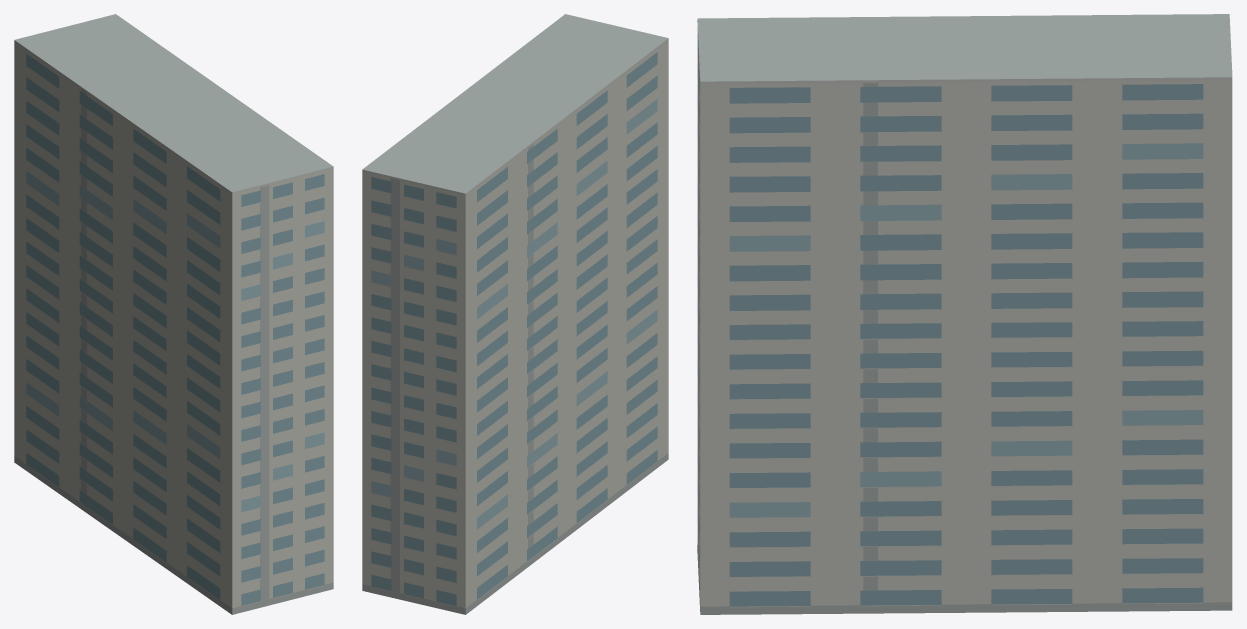
File: residential-248c794a-8a52-4e3b-add8-158d8baa1f48.glb
3 views of the same model, side by side, from view 1: azimuth 30°, elevation 25°; view 2: azimuth 150°, elevation 25°; view 3: azimuth 270°, elevation 25° (orthographic). The views are drawn at different scales.
Visible parts, largest first — view 1: residential-248c794a-8a52-4e3b-add8-158d8baa1f48.tmp; view 2: residential-248c794a-8a52-4e3b-add8-158d8baa1f48.tmp; view 3: residential-248c794a-8a52-4e3b-add8-158d8baa1f48.tmp.
Boxes of the visible parts, <box> form: residential-248c794a-8a52-4e3b-add8-158d8baa1f48.tmp: <box>14,14,333,614</box>; residential-248c794a-8a52-4e3b-add8-158d8baa1f48.tmp: <box>362,14,668,614</box>; residential-248c794a-8a52-4e3b-add8-158d8baa1f48.tmp: <box>697,14,1232,614</box>.
Size of the model in its own units: 13.06 by 48 by 43.65.
